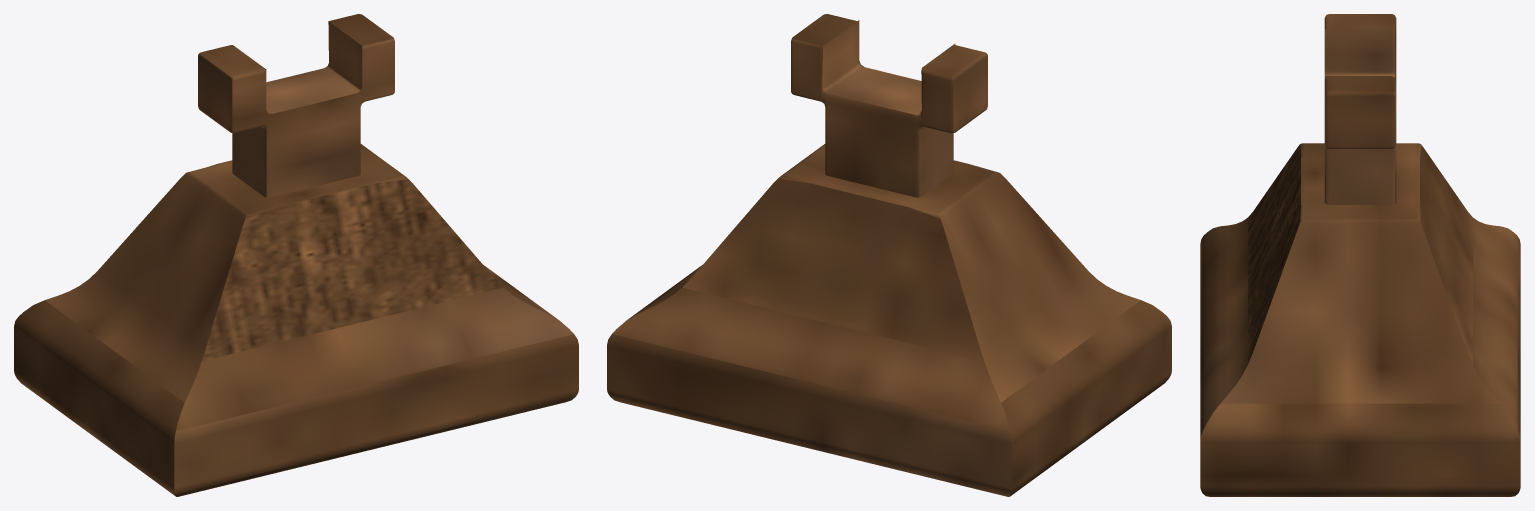
The model's file is TelephoneHolder.fbx.
3 views of the same model, side by side, from view 1: azimuth 30°, elevation 25°; view 2: azimuth 150°, elevation 25°; view 3: azimuth 270°, elevation 25° (orthographic).
Visible parts, largest first — view 1: TeleHolder; view 2: TeleHolder; view 3: TeleHolder.
Part boxes in pixels (x1,y1,x2,y2): TeleHolder: (14,14,578,496); TeleHolder: (607,14,1171,496); TeleHolder: (1200,14,1520,496).
Size of the model in its own units: 146 by 121 by 100.
